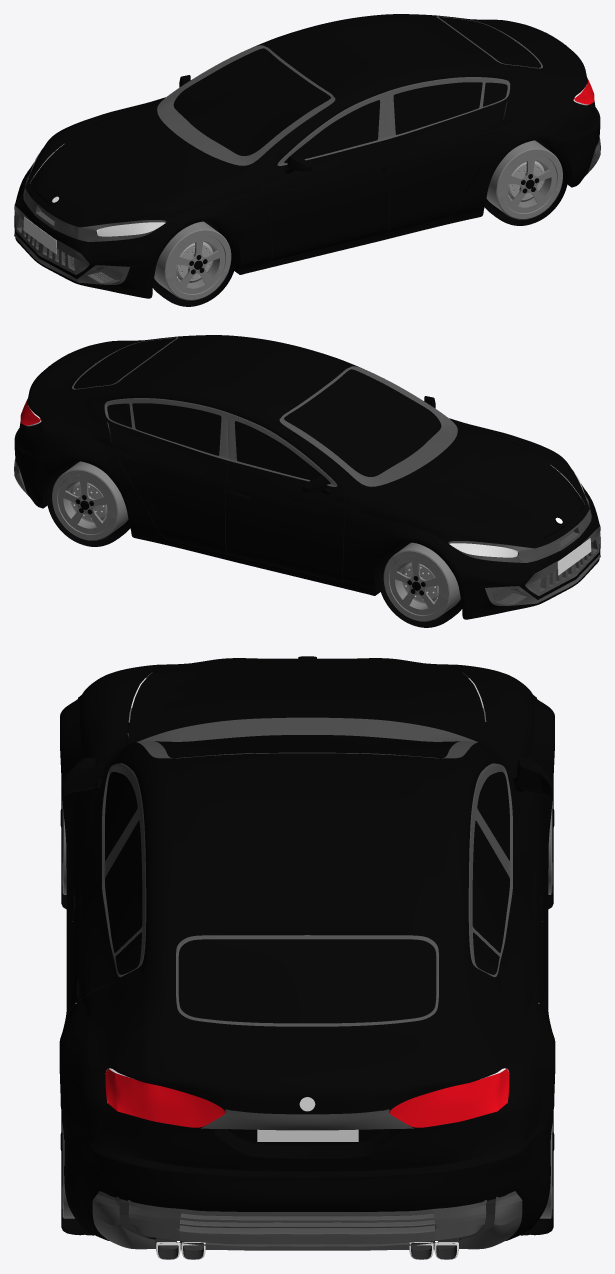
The model's file is generic_electric_sedan_vector.glb.
The picture shows the model from 3 angles, top to bottom: view 1: azimuth 30°, elevation 25°; view 2: azimuth 150°, elevation 25°; view 3: azimuth 270°, elevation 25°; orthographic projection. The views are drawn at different scales.
Parts seen in each view (by area): view 1: Plane_35, Plane.005_40, Plane.002_37, Circle.005_4, Circle.008_10, Plane.004_39, Plane.001_36, Circle.010_6, Circle.006_0, Plane.003_38, Plane.007_42, Circle.011_7 (+2 smaller); view 2: Plane_35, Plane.005_40, Plane.002_37, Circle.001_16, Circle.004_22, Plane.004_39, Plane.001_36, Circle.002_18, Circle.009_12, Plane.003_38, Plane.007_42, Circle.003_19 (+2 smaller); view 3: Plane_35, Plane.005_40, Plane.011_46, Plane.002_37, Plane.009_44, Plane.010_45, Plane.014_49, Cube.006_30.
Boxes of the visible parts, left/top/right/bottom form: Plane_35: left=14, top=14, right=600, bottom=298; Plane.005_40: left=173, top=17, right=540, bottom=163; Plane.002_37: left=157, top=16, right=542, bottom=165; Circle.005_4: left=154, top=221, right=231, bottom=300; Circle.008_10: left=486, top=140, right=562, bottom=219; Plane.004_39: left=23, top=173, right=166, bottom=241; Plane.001_36: left=14, top=205, right=89, bottom=274; Circle.010_6: left=484, top=139, right=568, bottom=225; Circle.006_0: left=152, top=221, right=236, bottom=306; Plane.003_38: left=14, top=233, right=129, bottom=284; Plane.007_42: left=30, top=152, right=164, bottom=236; Circle.011_7: left=507, top=161, right=544, bottom=201; Plane_35: left=14, top=335, right=600, bottom=619; Plane.005_40: left=74, top=338, right=441, bottom=484; Plane.002_37: left=72, top=337, right=457, bottom=486; Circle.001_16: left=383, top=542, right=460, bottom=621; Circle.004_22: left=52, top=461, right=128, bottom=540; Plane.004_39: left=448, top=494, right=591, bottom=562; Plane.001_36: left=525, top=526, right=600, bottom=595; Circle.002_18: left=46, top=460, right=130, bottom=546; Circle.009_12: left=378, top=542, right=462, bottom=627; Plane.003_38: left=485, top=554, right=600, bottom=605; Plane.007_42: left=450, top=473, right=584, bottom=557; Circle.003_19: left=70, top=481, right=107, bottom=522; Plane_35: left=59, top=656, right=555, bottom=1240; Plane.005_40: left=105, top=735, right=509, bottom=1023; Plane.011_46: left=92, top=1191, right=522, bottom=1250; Plane.002_37: left=102, top=717, right=512, bottom=1026; Plane.009_44: left=105, top=1068, right=509, bottom=1127; Plane.010_45: left=201, top=1109, right=413, bottom=1130; Plane.014_49: left=257, top=1129, right=358, bottom=1141; Cube.006_30: left=155, top=1237, right=459, bottom=1259.
Bounding box in the file's own units: 8.29 × 2.37 × 3.34.
